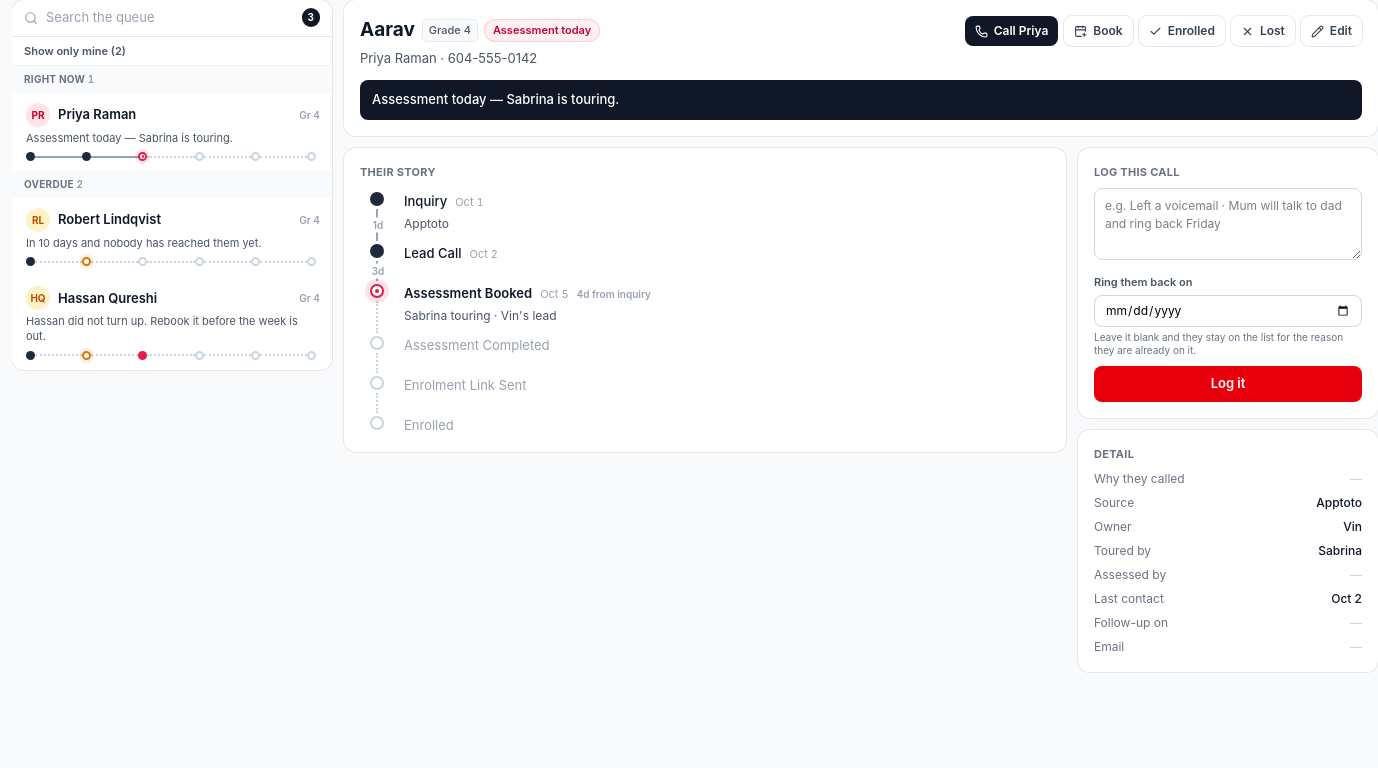
Test: the pane › follows the queue when you pick somebody else
Click the text "Hassan Qureshi" at {"x": 108, "y": 298}, box [58,290,157,306]
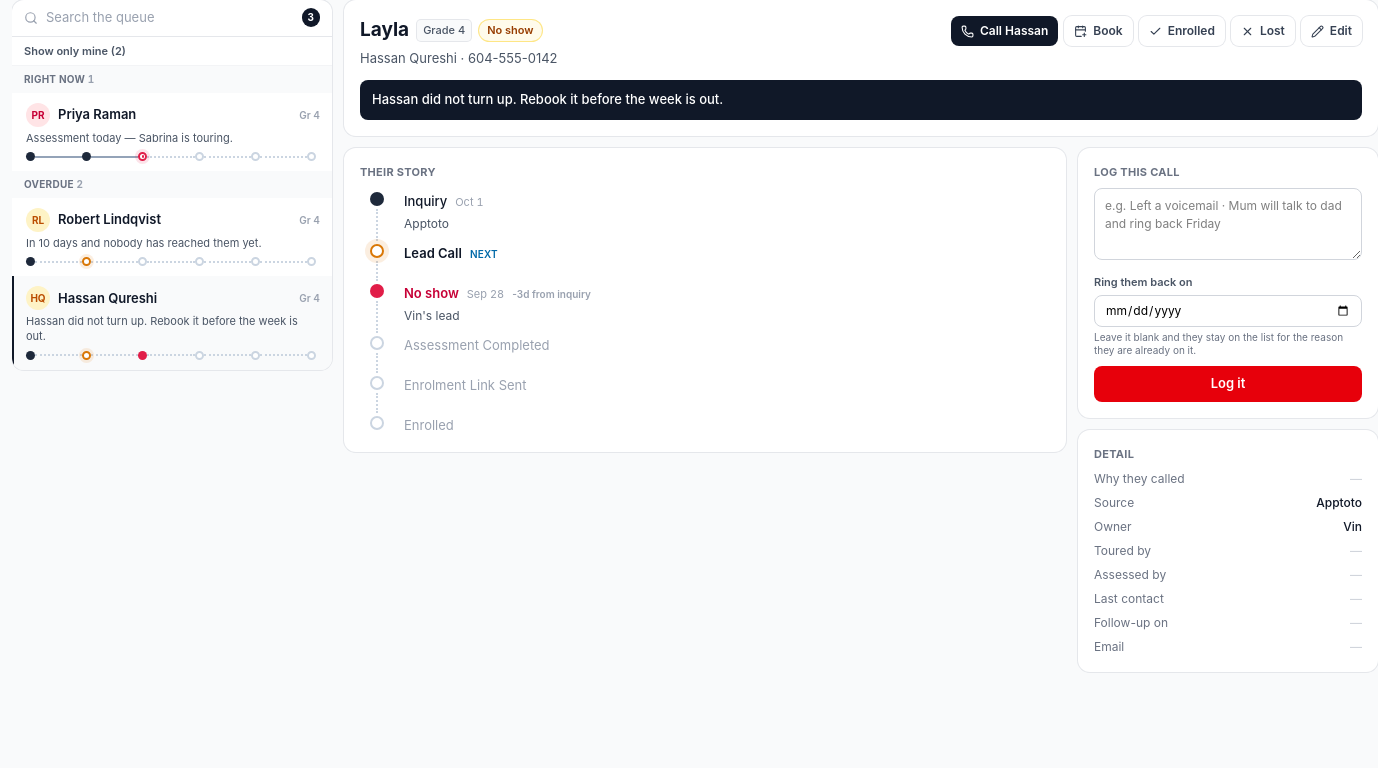
expect the heading "Layla" is shown: met, box [360,16,409,44]
